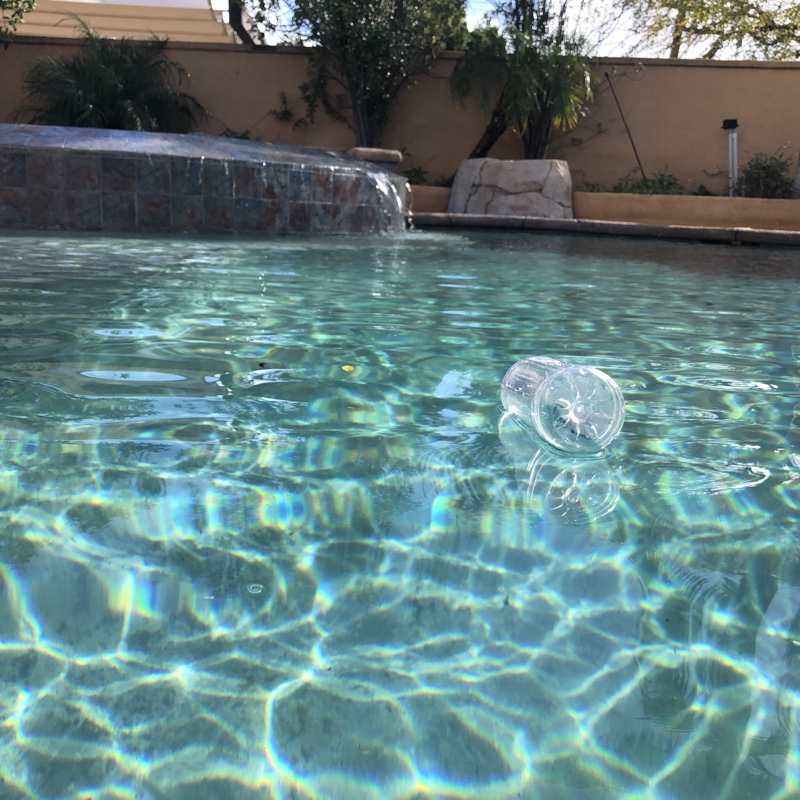Plastic Bottle: (498, 350, 628, 456)
